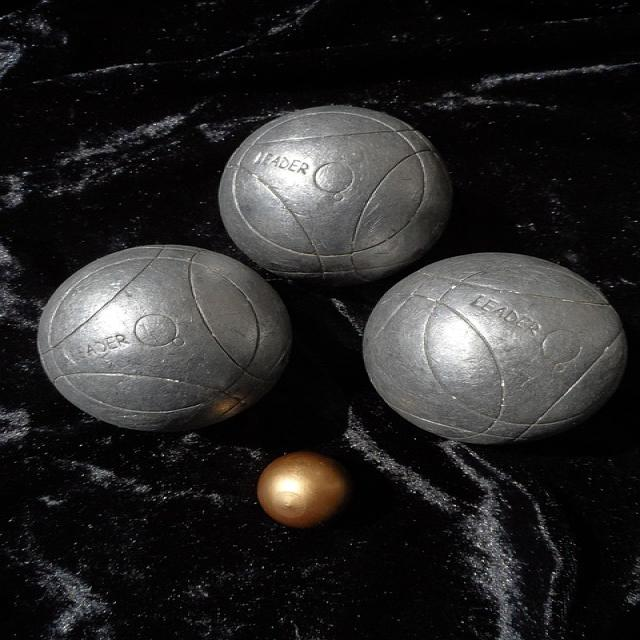hatball: (243, 452, 352, 538)
petanque: (354, 247, 636, 452), (29, 239, 301, 442), (212, 98, 473, 297)
